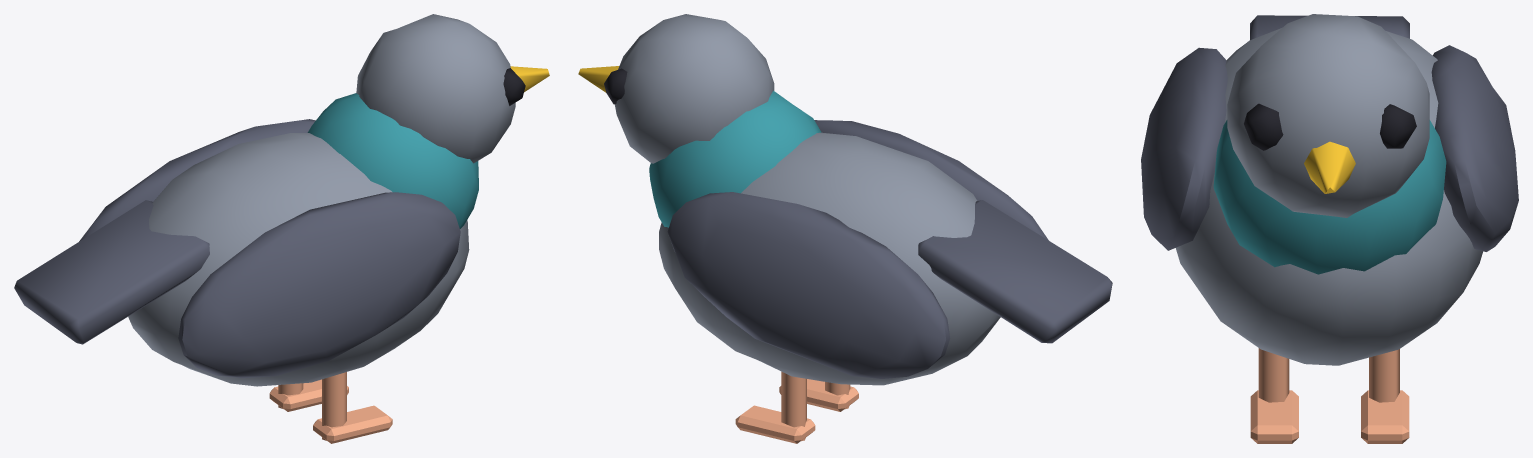
Rendered from pigeon.glb.
3 renders of one model, left to right at view 1: azimuth 30°, elevation 25°; view 2: azimuth 150°, elevation 25°; view 3: azimuth 270°, elevation 25°, orthographic. The views are drawn at different scales.
Visible parts, largest first — view 1: pigeon; view 2: pigeon; view 3: pigeon.
Boxes of the visible parts, <box> form: pigeon: <box>14,14,549,443</box>; pigeon: <box>578,14,1112,443</box>; pigeon: <box>1141,14,1518,443</box>.
Bounding box in the file's own units: 0.5359 × 0.3728 × 0.2739.
1 material, 1 textured.
